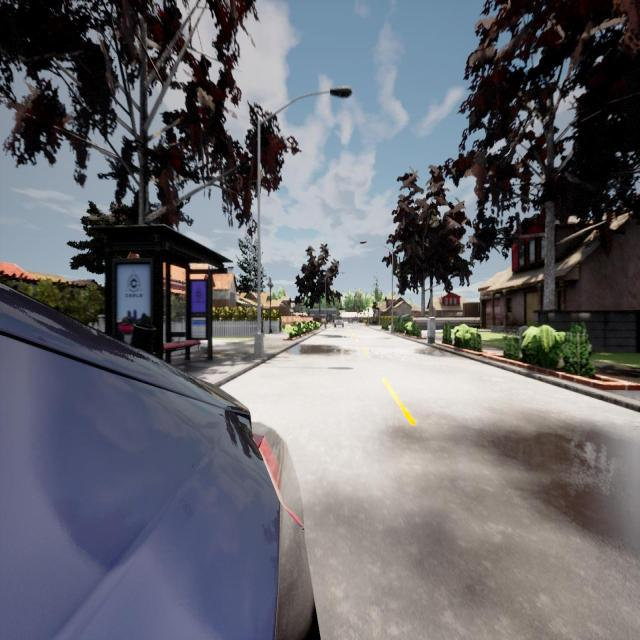Vehicle: (0, 284, 317, 638), (334, 316, 344, 328), (348, 318, 353, 324)
